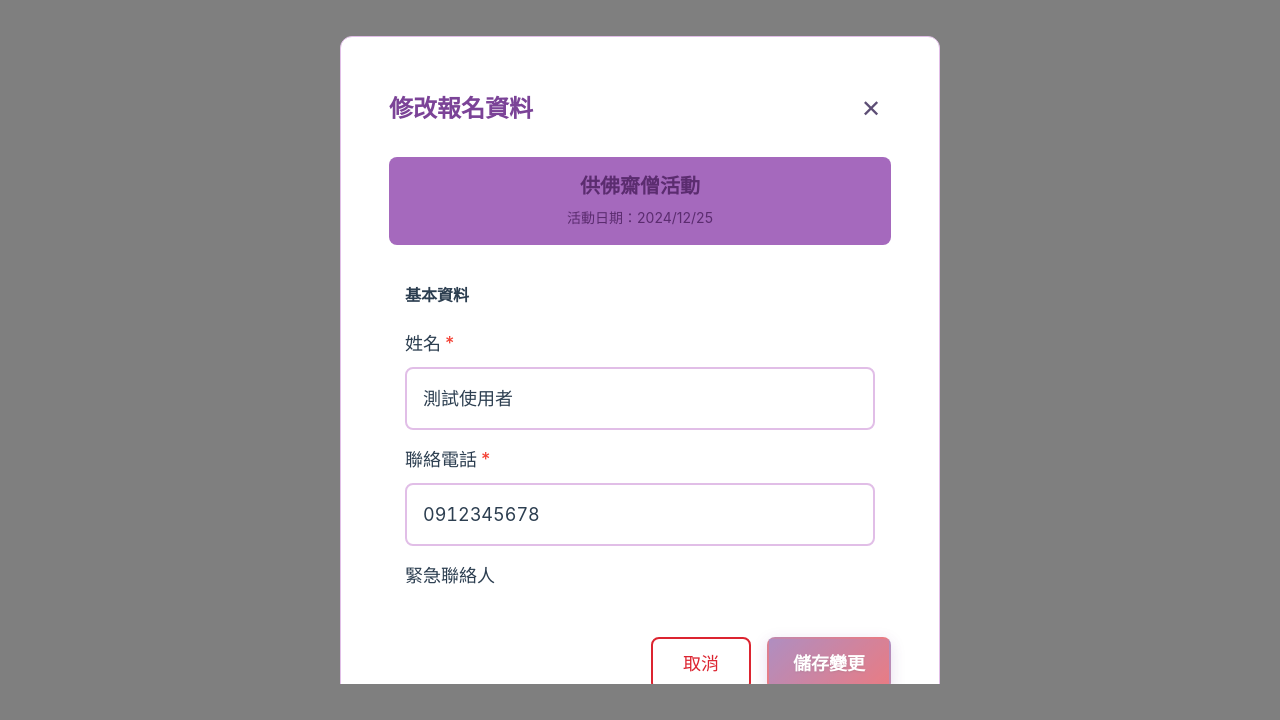
RegistrationEditModal Component › 表單驗證 › 應該顯示驗證錯誤
// 清空姓名欄位並嘗試儲存
Step 1. Clear the field showing "測試使用者" → (640, 398), box top-left (405, 367), bottom-right (875, 430)
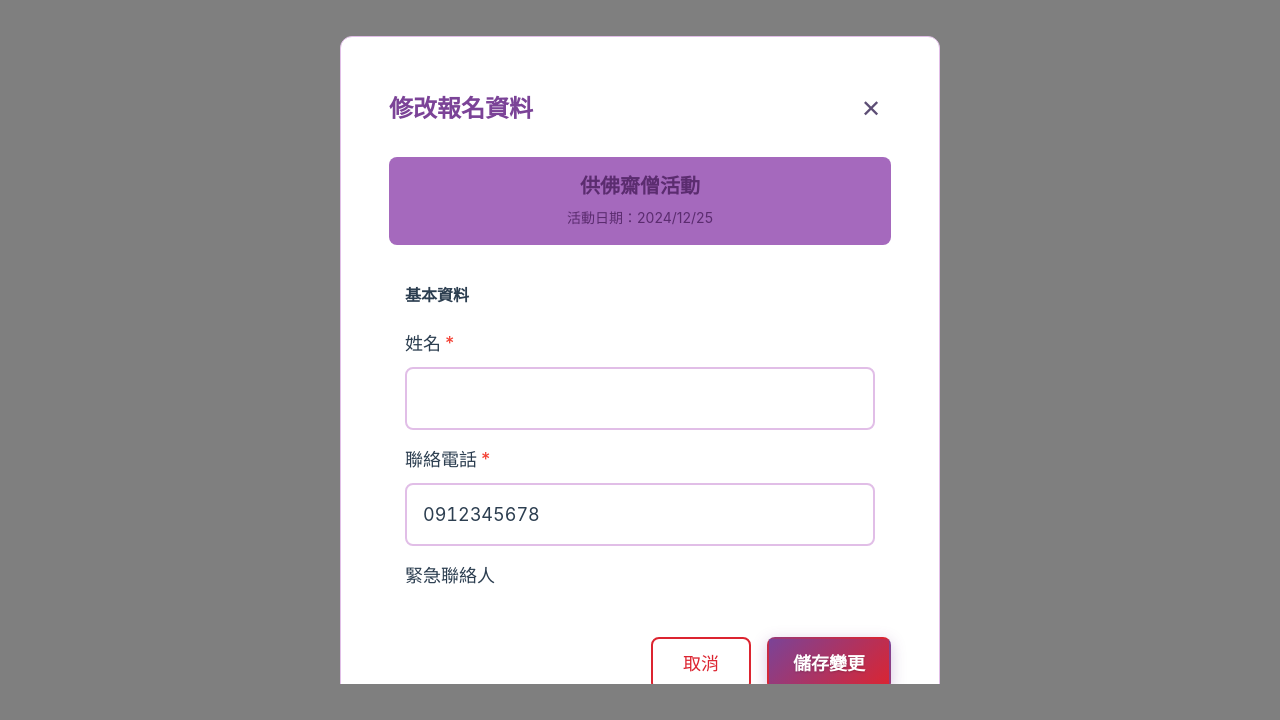
Step 2. Click the button "儲存變更" → (829, 664), box top-left (767, 637), bottom-right (891, 691)
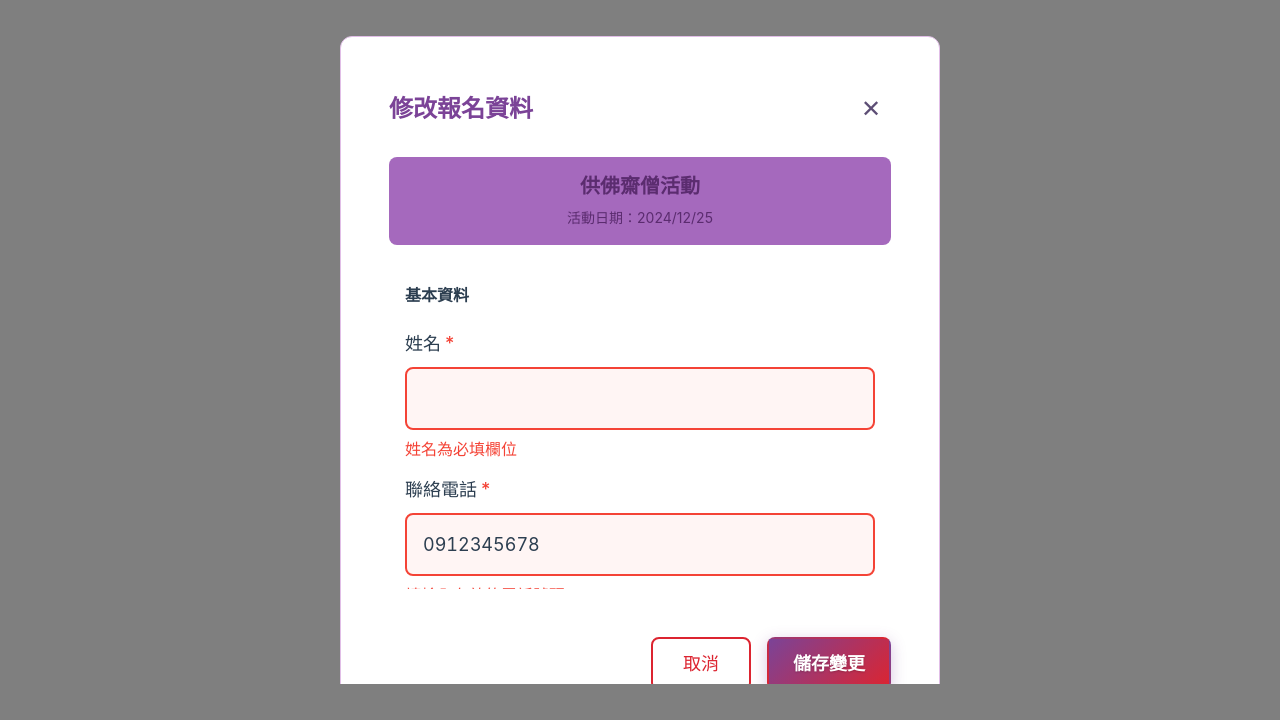
Expected: the text "姓名為必填欄位" is shown, top-left (405, 439), bottom-right (517, 459)
